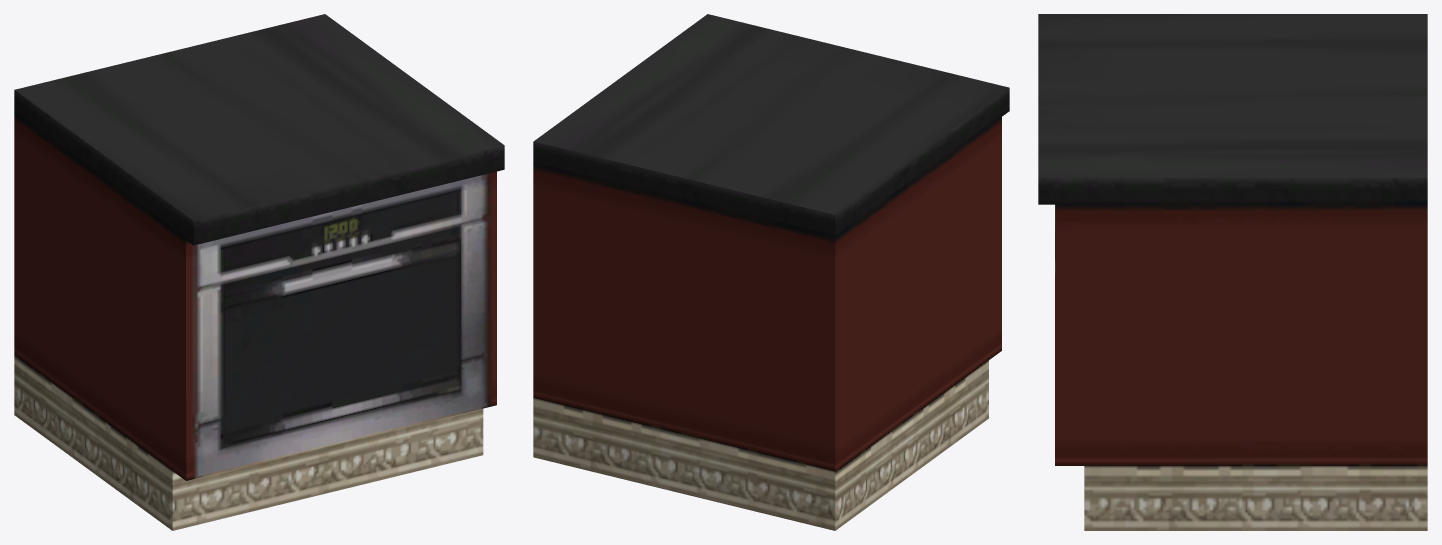
Rendered from furni_0201123_02.FBX.
The picture shows the model from 3 angles, left to right: view 1: azimuth 30°, elevation 25°; view 2: azimuth 150°, elevation 25°; view 3: azimuth 270°, elevation 25°; orthographic projection. The views are drawn at different scales.
Parts seen in each view (by area): view 1: furni_0201123_02; view 2: furni_0201123_02; view 3: furni_0201123_02.
Boxes of the visible parts, box(x1,y1,x2,y2) form: furni_0201123_02: box(14, 14, 504, 530); furni_0201123_02: box(533, 14, 1009, 530); furni_0201123_02: box(1038, 14, 1427, 530).
Size of the model in its own units: 80 by 80 by 80.
1 material, 1 textured.
